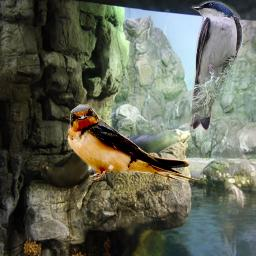Swallow: (65, 104, 206, 190), (187, 0, 243, 131)
